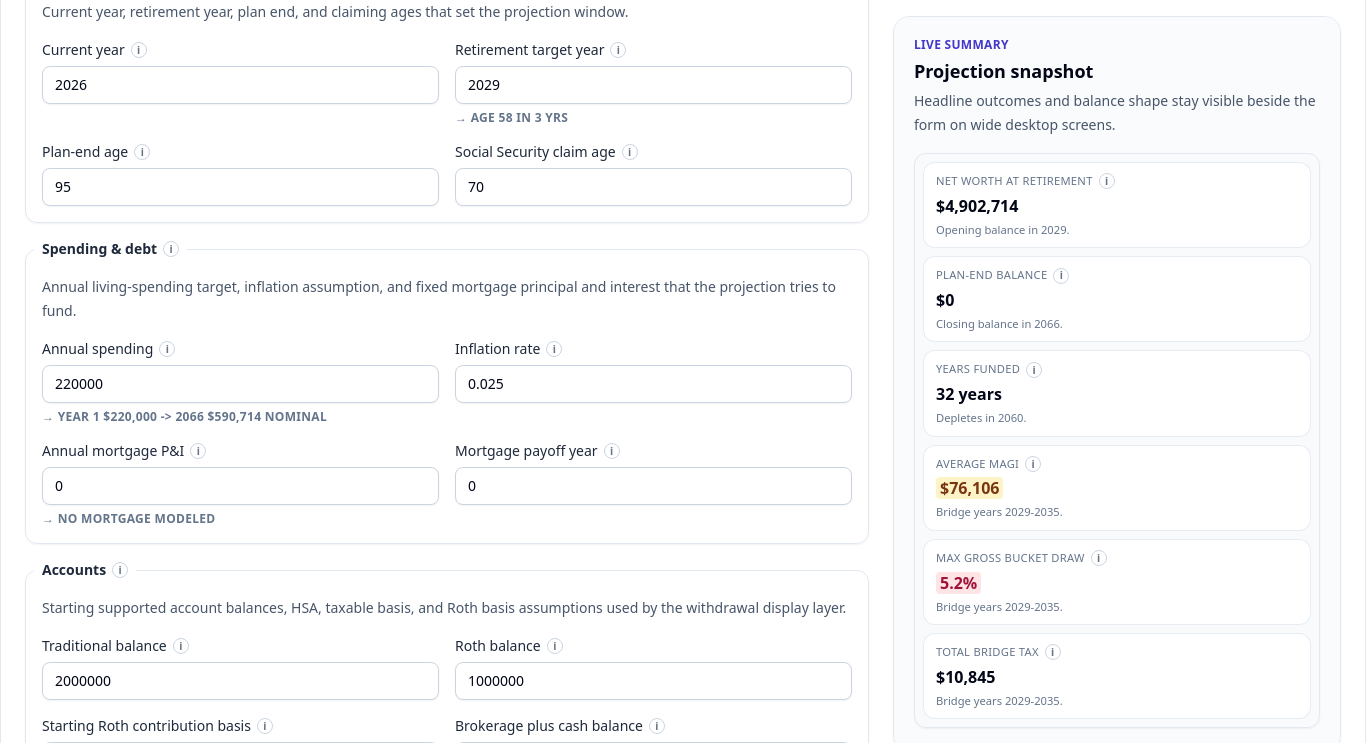
Test: BasicPlannerPage › keeps invalid basic form edits local until a valid debounced value is entered
The image size is (1366, 743).
(page scrolled)
Replace the text in the field labelled "Annual spending" with "-1" at (240,384), box x1=42 y1=365 x2=439 y2=403
Wait 151 ms
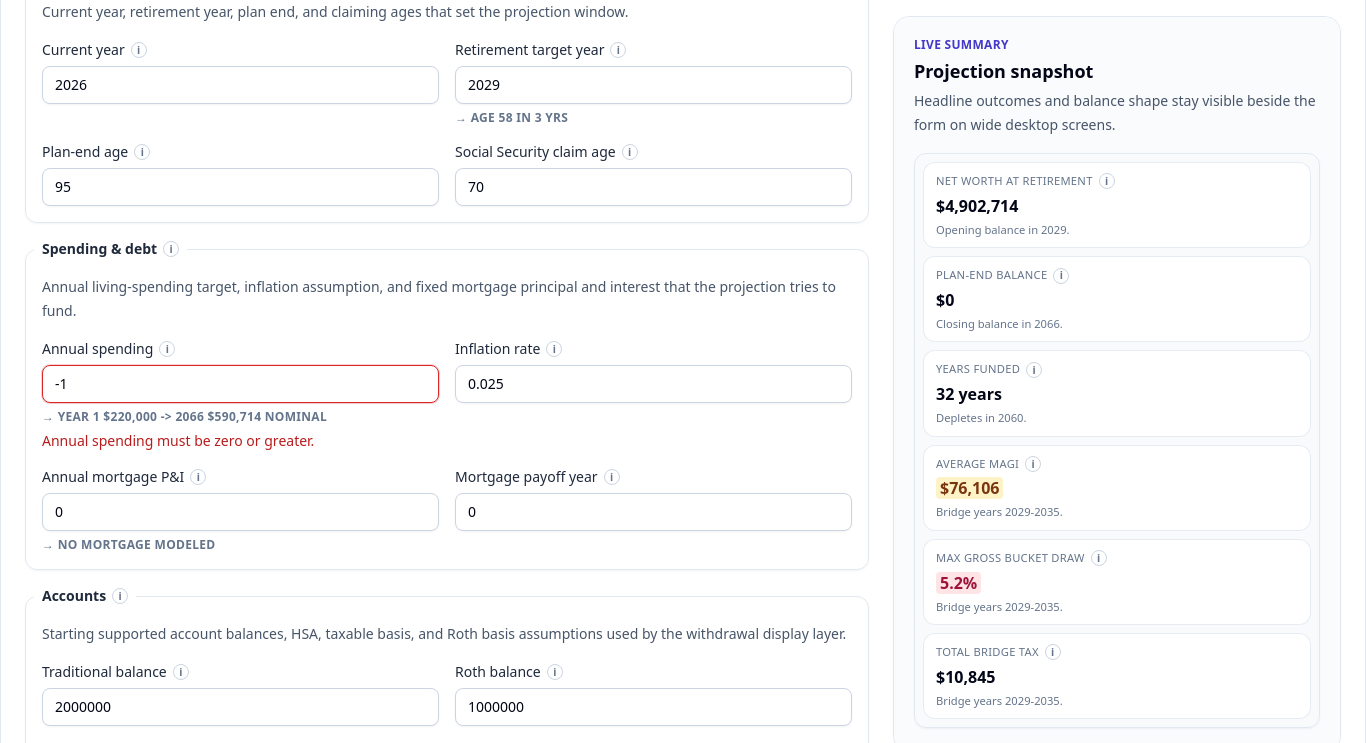
Now the text "Annual spending must be zero or greater." is shown, box x1=42 y1=431 x2=314 y2=450
Replace the text in the field labelled "Annual spending" with "91000" at (240,384), box x1=42 y1=365 x2=439 y2=403
Wait 151 ms
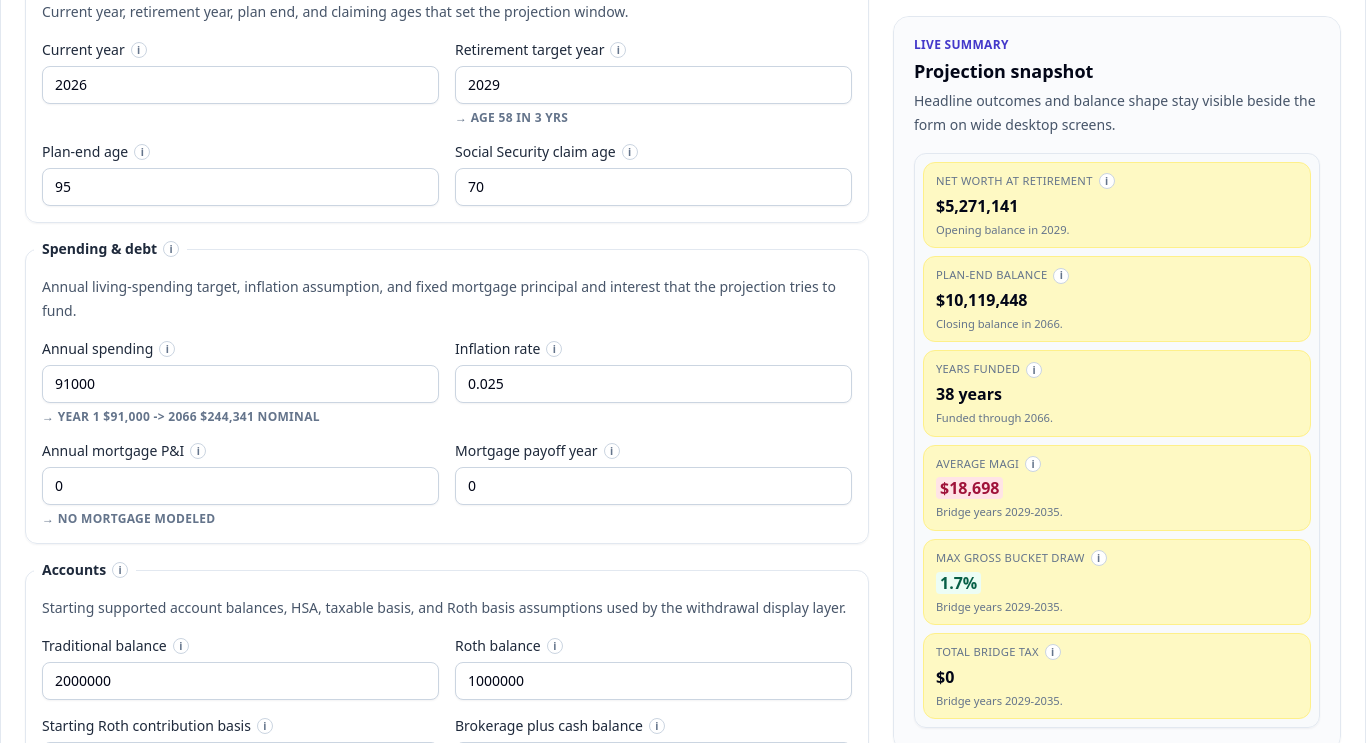
Now the text "Annual spending must be zero or greater." is gone
